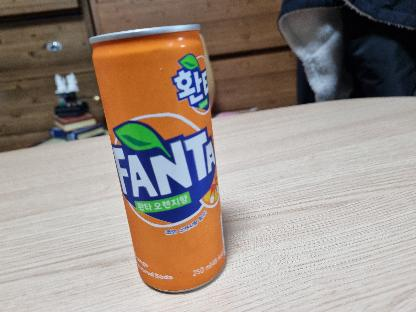Can: (88, 24, 227, 296)
